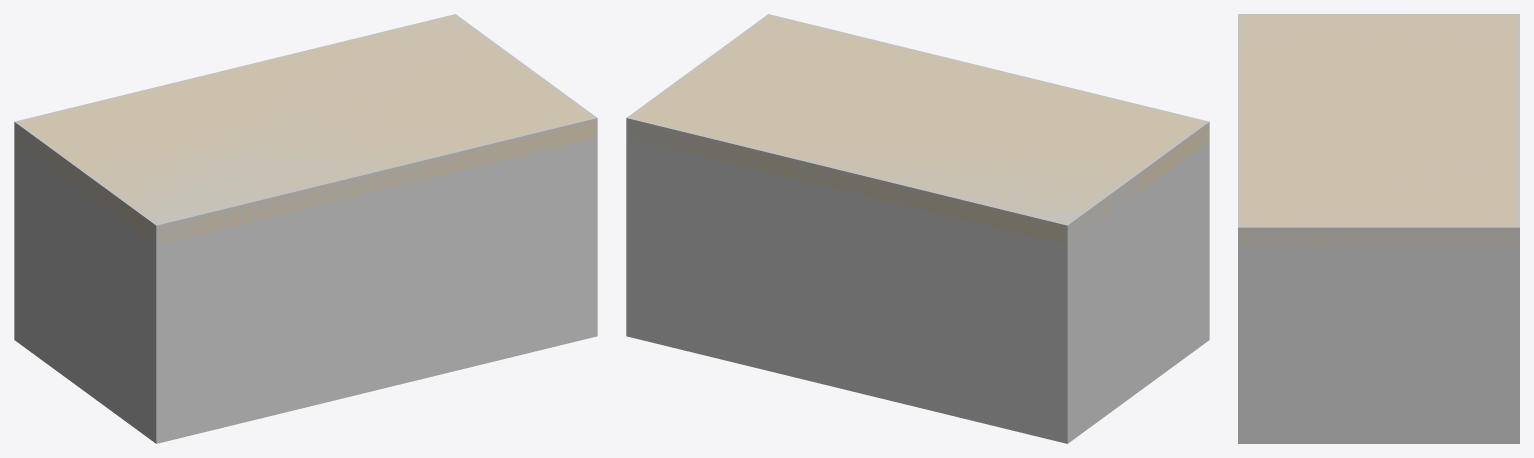
Rendered from dining-table_basic.glb.
3 renders of one model, left to right at view 1: azimuth 30°, elevation 25°; view 2: azimuth 150°, elevation 25°; view 3: azimuth 270°, elevation 25°, orthographic.
Visible parts, largest first — view 1: COL_dining-table, MESH_Top; view 2: COL_dining-table, MESH_Top; view 3: COL_dining-table, MESH_Top.
Part boxes in pixels (left/top/right/bottom): COL_dining-table: left=14, top=14, right=597, bottom=443; MESH_Top: left=15, top=15, right=595, bottom=244; COL_dining-table: left=626, top=14, right=1209, bottom=443; MESH_Top: left=628, top=15, right=1208, bottom=244; COL_dining-table: left=1238, top=14, right=1519, bottom=443; MESH_Top: left=1240, top=15, right=1517, bottom=246.
Size of the model in its own units: 1.65 by 0.78 by 0.92.
